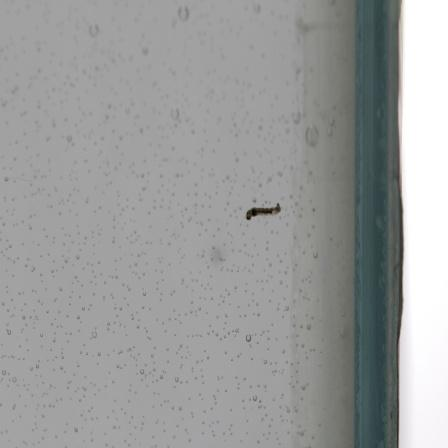Jentik-Nyamuk: (242, 197, 286, 225)
